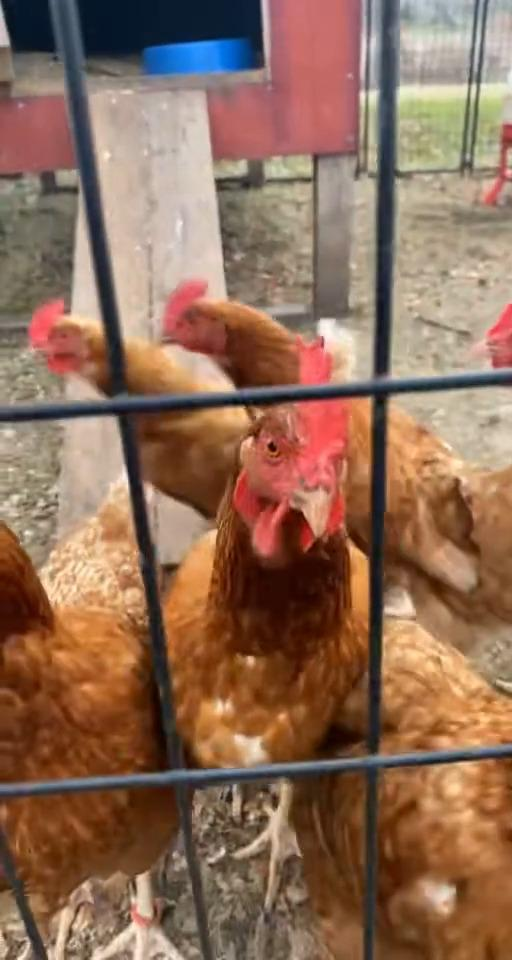rooster: (159, 334, 379, 914), (152, 273, 511, 626), (0, 467, 201, 959), (285, 603, 511, 959), (19, 297, 357, 523), (462, 306, 511, 386)
